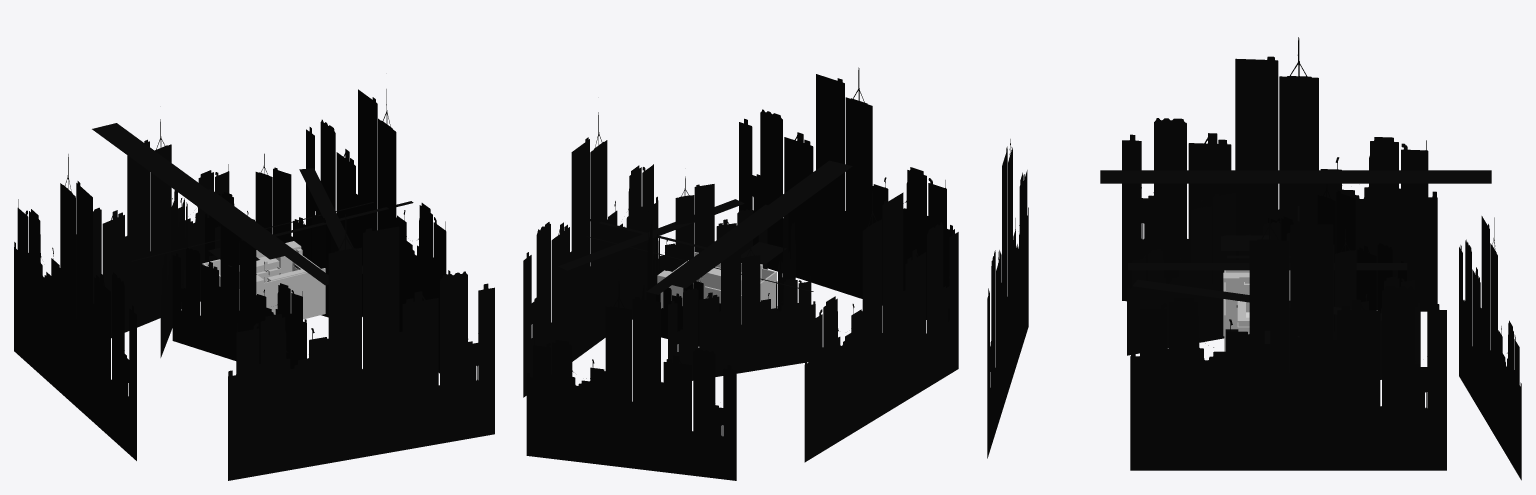
Rendered from Demo_scenario_modificacion_blocking.fbx.
3 views of the same model, side by side, from view 1: azimuth 30°, elevation 25°; view 2: azimuth 150°, elevation 25°; view 3: azimuth 270°, elevation 25° (orthographic). The views are drawn at different scales.
Visible parts, largest first — view 1: landscape, Cube, estructura_base, blocking; view 2: landscape, Cube, estructura_base; view 3: landscape, Cube, blocking, estructura_base.
Part boxes in pixels (x1,y1,x2,y2): landscape: (14,89,494,480); Cube: (92,123,413,285); estructura_base: (202,241,325,319); blocking: (239,256,280,295); landscape: (523,67,958,480); Cube: (558,160,852,294); estructura_base: (657,252,776,324); landscape: (987,37,1521,480); Cube: (1100,170,1491,343); blocking: (1223,272,1249,336); estructura_base: (1224,270,1290,351).
Size of the model in its own units: 110083 by 89076 by 135903.
